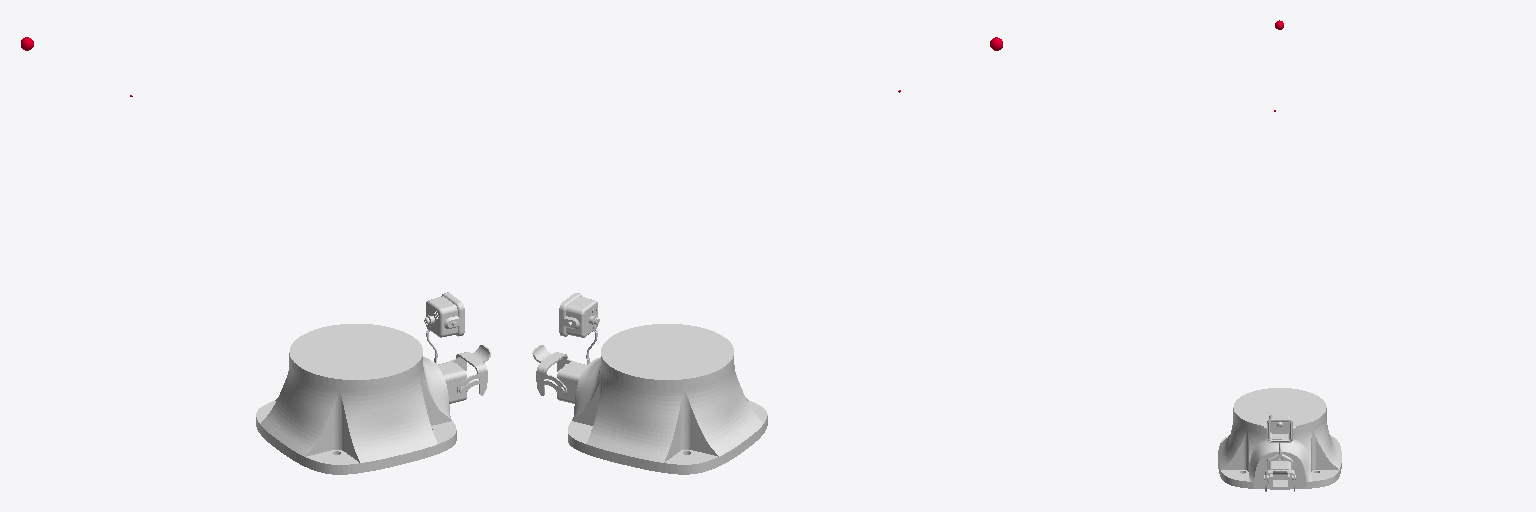
The robot description file, URDF, robot "mg400":
<?xml version="1.0" ?>
<robot name="mg400">
	<link name="world">
		<inertial>
			<origin rpy="0.00000 -0.00000 0.00000" xyz="0.00000 0.00000 0.00000"/>
			<mass value="0.00000"/>
			<inertia ixx="0.00000" ixy="0" ixz="0" iyy="0.00000" iyz="0" izz="0.00000"/>
		</inertial>
	</link>
	<link name="base_link">
		<inertial>
			<origin rpy="0.00000 -0.00000 0.00000" xyz="0.00060 -0.00000 0.05609"/>
			<mass value="3.62165"/>
			<inertia ixx="0.01587" ixy="0" ixz="0" iyy="0.01587" iyz="0" izz="0.02319"/>
		</inertial>
		<visual>
			<origin rpy="0.00000 -0.00000 0.00000" xyz="0.00000 0.00000 0.00000"/>
			<geometry>
				<mesh filename="../robot_arm_assets/mg400/meshes/base_link.STL" scale="1.00000 1.00000 1.00000"/>
			</geometry>
			<material name="mat_0">
				<color rgba="0.90000 0.90000 0.90000 1.00000" />
			</material>
		</visual>
		<collision>
			<origin rpy="0.00000 -0.00000 0.00000" xyz="0.00000 0.00000 0.00000"/>
			<geometry>
				<mesh filename="../robot_arm_assets/mg400/meshes/base_link.STL" scale="1.00000 1.00000 1.00000"/>
			</geometry>
		</collision>
	</link>
	<link name="link1">
		<inertial>
			<origin rpy="0.00000 -0.00000 0.00000" xyz="-0.00462 -0.00007 0.07099"/>
			<mass value="1.77056"/>
			<inertia ixx="0.00748" ixy="0" ixz="0" iyy="0.00775" iyz="0" izz="0.00787"/>
		</inertial>
		<visual>
			<origin rpy="0.00000 -0.00000 0.00000" xyz="0.00000 0.00000 0.00000"/>
			<geometry>
				<mesh filename="../robot_arm_assets/mg400/meshes/link1.STL" scale="1.00000 1.00000 1.00000"/>
			</geometry>
			<material name="mat_1">
				<color rgba="0.30000 0.30000 0.30000 1.00000" />
			</material>
		</visual>
		<collision>
			<origin rpy="0.00000 -0.00000 0.00000" xyz="0.00000 0.00000 0.00000"/>
			<geometry>
				<mesh filename="../robot_arm_assets/mg400/meshes/link1.STL" scale="1.00000 1.00000 1.00000"/>
			</geometry>
		</collision>
	</link>
	<link name="link2_1">
		<inertial>
			<origin rpy="0.00000 -0.00000 0.00000" xyz="-0.00322 0.03529 0.05961"/>
			<mass value="0.08661"/>
			<inertia ixx="0.00038" ixy="0" ixz="0" iyy="0.00035" iyz="0" izz="0.00006"/>
		</inertial>
		<visual>
			<origin rpy="0.00000 -0.00000 0.00000" xyz="0.00000 0.00000 0.00000"/>
			<geometry>
				<mesh filename="../robot_arm_assets/mg400/meshes/link2_1.STL" scale="1.00000 1.00000 1.00000"/>
			</geometry>
			<material name="mat_2">
				<color rgba="0.30000 0.30000 0.30000 1.00000" />
			</material>
		</visual>
		<collision>
			<origin rpy="0.00000 -0.00000 0.00000" xyz="0.00000 0.00000 0.00000"/>
			<geometry>
				<mesh filename="../robot_arm_assets/mg400/meshes/link2_1.STL" scale="1.00000 1.00000 1.00000"/>
			</geometry>
		</collision>
	</link>
	<link name="link3_1">
		<inertial>
			<origin rpy="0.00000 -0.00000 0.00000" xyz="0.08217 0.00011 -0.00334"/>
			<mass value="0.03752"/>
			<inertia ixx="0.00001" ixy="0" ixz="0" iyy="0.00018" iyz="0" izz="0.00018"/>
		</inertial>
		<visual>
			<origin rpy="0.00000 -0.00000 0.00000" xyz="0.00000 0.00000 0.00000"/>
			<geometry>
				<mesh filename="../robot_arm_assets/mg400/meshes/link3_1.STL" scale="1.00000 1.00000 1.00000"/>
			</geometry>
			<material name="mat_3">
				<color rgba="0.30000 0.30000 0.30000 1.00000" />
			</material>
		</visual>
		<collision>
			<origin rpy="0.00000 -0.00000 0.00000" xyz="0.00000 0.00000 0.00000"/>
			<geometry>
				<mesh filename="../robot_arm_assets/mg400/meshes/link3_1.STL" scale="1.00000 1.00000 1.00000"/>
			</geometry>
		</collision>
	</link>
	<link name="link4_1">
		<inertial>
			<origin rpy="0.00000 -0.00000 0.00000" xyz="0.03879 0.01708 -0.00246"/>
			<mass value="0.06290"/>
			<inertia ixx="0.00006" ixy="0" ixz="0" iyy="0.00010" iyz="0" izz="0.00007"/>
		</inertial>
		<visual>
			<origin rpy="0.00000 -0.00000 0.00000" xyz="0.00000 0.00000 0.00000"/>
			<geometry>
				<mesh filename="../robot_arm_assets/mg400/meshes/link4_1.STL" scale="1.00000 1.00000 1.00000"/>
			</geometry>
			<material name="mat_4">
				<color rgba="0.90000 0.90000 0.90000 1.00000" />
			</material>
		</visual>
		<collision>
			<origin rpy="0.00000 -0.00000 0.00000" xyz="0.00000 0.00000 0.00000"/>
			<geometry>
				<mesh filename="../robot_arm_assets/mg400/meshes/link4_1.STL" scale="1.00000 1.00000 1.00000"/>
			</geometry>
		</collision>
	</link>
	<link name="link5">
		<inertial>
			<origin rpy="0.00000 -0.00000 0.00000" xyz="0.00000 0.00000 -0.03497"/>
			<mass value="0.09653"/>
			<inertia ixx="0.00008" ixy="0" ixz="0" iyy="0.00008" iyz="0" izz="0.00003"/>
		</inertial>
		<visual>
			<origin rpy="0.00000 -0.00000 0.00000" xyz="0.00000 0.00000 0.00000"/>
			<geometry>
				<mesh filename="../robot_arm_assets/mg400/meshes/link5.STL" scale="1.00000 1.00000 1.00000"/>
			</geometry>
			<material name="mat_5">
				<color rgba="0.90000 0.90000 0.90000 1.00000" />
			</material>
		</visual>
		<collision>
			<origin rpy="0.00000 -0.00000 0.00000" xyz="0.00000 0.00000 0.00000"/>
			<geometry>
				<mesh filename="../robot_arm_assets/mg400/meshes/link5.STL" scale="1.00000 1.00000 1.00000"/>
			</geometry>
		</collision>
	</link>
	<link name="ee_link">
		<inertial>
			<origin rpy="-3.14000 -0.00000 1.57000" xyz="0.00000 0.00000 0.00000"/>
			<mass value="0.00000"/>
			<inertia ixx="0.00000" ixy="0" ixz="0" iyy="0.00000" iyz="0" izz="0.00000"/>
		</inertial>
		<visual>
			<origin rpy="0.00000 -0.00000 0.00000" xyz="0.00000 0.00000 0.00000"/>
			<geometry>
				<sphere radius="0.00500"/>
			</geometry>
			<material name="mat_6">
				<color rgba="0.90000 0.00000 0.20000 1.00000" />
			</material>
		</visual>
		<collision>
			<origin rpy="0.00000 -0.00000 0.00000" xyz="0.00000 0.00000 0.00000"/>
			<geometry>
				<sphere radius="0.00100"/>
			</geometry>
		</collision>
	</link>
	<link name="link2_2">
		<inertial>
			<origin rpy="0.00000 -0.00000 0.00000" xyz="-0.02011 0.03050 0.07363"/>
			<mass value="0.06625"/>
			<inertia ixx="0.00025" ixy="0" ixz="0" iyy="0.00024" iyz="0" izz="0.00004"/>
		</inertial>
		<visual>
			<origin rpy="0.00000 -0.00000 0.00000" xyz="0.00000 0.00000 0.00000"/>
			<geometry>
				<mesh filename="../robot_arm_assets/mg400/meshes/link2_2.STL" scale="1.00000 1.00000 1.00000"/>
			</geometry>
			<material name="mat_7">
				<color rgba="0.90000 0.90000 0.90000 1.00000" />
			</material>
		</visual>
		<collision>
			<origin rpy="0.00000 -0.00000 0.00000" xyz="0.00000 0.00000 0.00000"/>
			<geometry>
				<mesh filename="../robot_arm_assets/mg400/meshes/link2_2.STL" scale="1.00000 1.00000 1.00000"/>
			</geometry>
		</collision>
	</link>
	<link name="link3_2">
		<inertial>
			<origin rpy="0.00000 -0.00000 0.00000" xyz="0.03386 0.02402 0.00452"/>
			<mass value="0.03667"/>
			<inertia ixx="0.00002" ixy="0" ixz="0" iyy="0.00004" iyz="0" izz="0.00004"/>
		</inertial>
		<visual>
			<origin rpy="0.00000 -0.00000 0.00000" xyz="0.00000 0.00000 0.00000"/>
			<geometry>
				<mesh filename="../robot_arm_assets/mg400/meshes/link3_2.STL" scale="1.00000 1.00000 1.00000"/>
			</geometry>
			<material name="mat_8">
				<color rgba="0.30000 0.30000 0.30000 1.00000" />
			</material>
		</visual>
		<collision>
			<origin rpy="0.00000 -0.00000 0.00000" xyz="0.00000 0.00000 0.00000"/>
			<geometry>
				<mesh filename="../robot_arm_assets/mg400/meshes/link3_2.STL" scale="1.00000 1.00000 1.00000"/>
			</geometry>
		</collision>
	</link>
	<link name="link4_2">
		<inertial>
			<origin rpy="0.00000 -0.00000 0.00000" xyz="0.08764 0.02350 0.00831"/>
			<mass value="0.04536"/>
			<inertia ixx="0.00002" ixy="0" ixz="0" iyy="0.00016" iyz="0" izz="0.00016"/>
		</inertial>
		<visual>
			<origin rpy="0.00000 -0.00000 0.00000" xyz="0.00000 0.00000 0.00000"/>
			<geometry>
				<mesh filename="../robot_arm_assets/mg400/meshes/link4_2.STL" scale="1.00000 1.00000 1.00000"/>
			</geometry>
			<material name="mat_9">
				<color rgba="0.90000 0.90000 0.90000 1.00000" />
			</material>
		</visual>
		<collision>
			<origin rpy="0.00000 -0.00000 0.00000" xyz="0.00000 0.00000 0.00000"/>
			<geometry>
				<mesh filename="../robot_arm_assets/mg400/meshes/link4_2.STL" scale="1.00000 1.00000 1.00000"/>
			</geometry>
		</collision>
	</link>
	<link name="tactip_adapter_link">
		<inertial>
			<origin rpy="0.00000 -0.00000 0.00000" xyz="0.00000 0.00000 0.00000"/>
			<mass value="0.10000"/>
			<inertia ixx="0.00009" ixy="0" ixz="0" iyy="0.00014" iyz="0" izz="0.00015"/>
		</inertial>
		<visual>
			<origin rpy="0.00000 -0.00000 0.00000" xyz="0.00000 0.00000 0.00000"/>
			<geometry>
				<mesh filename="../sensor_assets/right_angle_tactip/adapter/right_angle_adapter.obj" scale="1.00000 1.00000 1.00000"/>
			</geometry>
			<material name="mat_10">
				<color rgba="0.80000 0.80000 0.80000 1.00000" />
			</material>
		</visual>
		<collision>
			<origin rpy="0.00000 -0.00000 0.00000" xyz="0.00000 0.00000 0.00000"/>
			<geometry>
				<mesh filename="../sensor_assets/right_angle_tactip/adapter/right_angle_adapter.obj" scale="1.00000 1.00000 1.00000"/>
			</geometry>
		</collision>
	</link>
	<link name="tactip_body_link">
		<inertial>
			<origin rpy="0.00000 -0.00000 0.00000" xyz="0.00000 0.00000 0.00000"/>
			<mass value="0.25000"/>
			<inertia ixx="0.00022" ixy="0" ixz="0" iyy="0.00021" iyz="0" izz="0.00021"/>
		</inertial>
		<visual>
			<origin rpy="0.00000 -0.00000 0.00000" xyz="0.00000 0.00000 0.00000"/>
			<geometry>
				<mesh filename="../sensor_assets/right_angle_tactip/../standard_tactip/body/tactip_body.obj" scale="1.00000 1.00000 1.00000"/>
			</geometry>
			<material name="mat_11">
				<color rgba="0.80000 0.80000 0.80000 1.00000" />
			</material>
		</visual>
		<collision>
			<origin rpy="0.00000 -0.00000 0.00000" xyz="0.00000 0.00000 0.00000"/>
			<geometry>
				<mesh filename="../sensor_assets/right_angle_tactip/../standard_tactip/body/tactip_body.obj" scale="1.00000 1.00000 1.00000"/>
			</geometry>
		</collision>
	</link>
	<link name="tactip_tip_link">
		<inertial>
			<origin rpy="0.00000 -0.00000 0.00000" xyz="0.00000 0.00000 0.00000"/>
			<mass value="0.10000"/>
			<inertia ixx="0.00002" ixy="0" ixz="0" iyy="0.00003" iyz="0" izz="0.00002"/>
		</inertial>
		<visual>
			<origin rpy="0.00000 -0.00000 0.00000" xyz="0.00000 0.00000 0.00000"/>
			<geometry>
				<mesh filename="../sensor_assets/right_angle_tactip/../standard_tactip/tip/skin.obj" scale="1.00000 1.00000 1.00000"/>
			</geometry>
			<material name="mat_12">
				<color rgba="0.00000 0.00000 0.00000 1.00000" />
			</material>
		</visual>
		<collision>
			<origin rpy="0.00000 -0.00000 0.00000" xyz="0.00000 0.00000 0.00000"/>
			<geometry>
				<mesh filename="../sensor_assets/right_angle_tactip/../standard_tactip/tip/core.obj" scale="1.00000 1.00000 1.00000"/>
			</geometry>
		</collision>
	</link>
	<link name="tcp_link">
		<inertial>
			<origin rpy="0.00000 -1.57080 0.00000" xyz="0.00000 0.00000 0.00000"/>
			<mass value="0.00000"/>
			<inertia ixx="0.00000" ixy="0" ixz="0" iyy="0.00000" iyz="0" izz="0.00000"/>
		</inertial>
		<visual>
			<origin rpy="0.00000 -0.00000 0.00000" xyz="0.00000 0.00000 0.00000"/>
			<geometry>
				<sphere radius="0.00100"/>
			</geometry>
			<material name="mat_13">
				<color rgba="0.90000 0.00000 0.20000 0.50000" />
			</material>
		</visual>
	</link>
	<joint name="world_joint" type="fixed">
		<parent link="world"/>
		<child link="base_link"/>
		<dynamics damping="1.0" friction="0.0001"/>
		<origin rpy="0.00000 -0.00000 -3.14000" xyz="0.00000 0.00000 0.00000"/>
		<axis xyz="0.00000 0.00000 0.00000"/>
	</joint>
	<joint name="j1" type="revolute">
		<parent link="base_link"/>
		<child link="link1"/>
		<limit effort="0.00000" lower="-3.14000" upper="3.14000" velocity="0.00000"/>
		<dynamics damping="1.0" friction="0.0001"/>
		<origin rpy="0.00000 -0.00000 0.00000" xyz="-0.00500 0.00000 0.10900"/>
		<axis xyz="0.00000 0.00000 1.00000"/>
	</joint>
	<joint name="j2_1" type="revolute">
		<parent link="link1"/>
		<child link="link2_1"/>
		<limit effort="0.00000" lower="-3.14000" upper="3.14000" velocity="0.00000"/>
		<dynamics damping="1.0" friction="0.0001"/>
		<origin rpy="0.00000 -0.00000 0.00000" xyz="0.04350 -0.03577 0.11900"/>
		<axis xyz="0.00000 1.00000 0.00000"/>
	</joint>
	<joint name="j3_1" type="revolute">
		<parent link="link2_1"/>
		<child link="link3_1"/>
		<limit effort="0.00000" lower="-3.14000" upper="3.14000" velocity="0.00000"/>
		<dynamics damping="1.0" friction="0.0001"/>
		<origin rpy="0.00000 -0.00000 0.00000" xyz="-0.00105 0.03577 0.17500"/>
		<axis xyz="0.00000 1.00000 0.00000"/>
	</joint>
	<joint name="j4_1" type="revolute">
		<parent link="link3_1"/>
		<child link="link4_1"/>
		<limit effort="0.00000" lower="-3.14000" upper="3.14000" velocity="0.00000"/>
		<dynamics damping="1.0" friction="0.0001"/>
		<origin rpy="0.00000 -0.00000 0.00000" xyz="0.17497 -0.01700 0.00325"/>
		<axis xyz="0.00000 1.00000 0.00000"/>
	</joint>
	<joint name="j5" type="revolute">
		<parent link="link4_1"/>
		<child link="link5"/>
		<limit effort="0.00000" lower="-3.14000" upper="3.14000" velocity="0.00000"/>
		<dynamics damping="1.0" friction="0.0001"/>
		<origin rpy="0.00000 -0.00000 0.00000" xyz="0.06600 0.01700 0.03100"/>
		<axis xyz="-0.00001 0.00000 1.00000"/>
	</joint>
	<joint name="ee_joint" type="fixed">
		<parent link="link5"/>
		<child link="ee_link"/>
		<dynamics damping="1.0" friction="0.0001"/>
		<origin rpy="0.00000 -0.00000 0.00000" xyz="0.00000 0.00000 -0.06500"/>
		<axis xyz="0.00000 0.00000 0.00000"/>
	</joint>
	<joint name="j2_2" type="revolute">
		<parent link="link1"/>
		<child link="link2_2"/>
		<limit effort="0.00000" lower="-3.14000" upper="3.14000" velocity="0.00000"/>
		<dynamics damping="1.0" friction="0.0001"/>
		<origin rpy="0.00000 -0.00000 0.00000" xyz="0.00453 -0.03050 0.14150"/>
		<axis xyz="0.00000 1.00000 0.00000"/>
	</joint>
	<joint name="j3_2" type="revolute">
		<parent link="link2_2"/>
		<child link="link3_2"/>
		<limit effort="0.00000" lower="-3.14000" upper="3.14000" velocity="0.00000"/>
		<dynamics damping="1.0" friction="0.0001"/>
		<origin rpy="0.00000 -0.00000 0.00000" xyz="-0.00105 0.00650 0.17500"/>
		<axis xyz="0.00000 1.00000 0.00000"/>
	</joint>
	<joint name="j4_2" type="revolute">
		<parent link="link3_2"/>
		<child link="link4_2"/>
		<limit effort="0.00000" lower="-3.14000" upper="3.14000" velocity="0.00000"/>
		<dynamics damping="1.0" friction="0.0001"/>
		<origin rpy="0.00000 -0.00000 0.00000" xyz="0.06790 0.00050 0.01197"/>
		<axis xyz="0.00000 1.00000 0.00000"/>
	</joint>
	<joint name="joint_dummy1" type="fixed">
		<parent link="ee_link"/>
		<child link="tactip_adapter_link"/>
		<dynamics damping="1.0" friction="0.0001"/>
		<origin rpy="-1.57080 -1.57080 1.57080" xyz="0.00000 0.00500 -0.06000"/>
		<axis xyz="0.00000 0.00000 1.00000"/>
	</joint>
	<joint name="tactip_body_to_adapter" type="fixed">
		<parent link="tactip_adapter_link"/>
		<child link="tactip_body_link"/>
		<dynamics damping="1.0" friction="0.0001"/>
		<origin rpy="0.00000 -0.00000 0.00000" xyz="0.00000 0.00000 0.00000"/>
		<axis xyz="0.00000 0.00000 0.00000"/>
	</joint>
	<joint name="tactip_tip_to_body" type="fixed">
		<parent link="tactip_body_link"/>
		<child link="tactip_tip_link"/>
		<dynamics damping="1.0" friction="0.0001"/>
		<origin rpy="1.57000 -0.00000 0.00000" xyz="0.00000 0.00000 0.06500"/>
		<axis xyz="0.00000 0.00000 0.00000"/>
	</joint>
	<joint name="tcp_joint" type="fixed">
		<parent link="tactip_body_link"/>
		<child link="tcp_link"/>
		<dynamics damping="1.0" friction="0.0001"/>
		<origin rpy="0.00000 -0.00000 0.00000" xyz="0.00000 0.00000 0.08500"/>
		<axis xyz="0.00000 0.00000 0.00000"/>
	</joint>
</robot>

--- Facts derived from the render (not from the file) ---
Views: 3 orthographic renders of the robot side by side, from view 1: azimuth 30°, elevation 25°; view 2: azimuth 150°, elevation 25°; view 3: azimuth 270°, elevation 25°.
Model mg400 with 15 links and 14 joints (8 revolute, 6 fixed), rooted at world, posed every joint at zero.
Links seen in each view (by area): view 1: base_link; view 2: base_link; view 3: base_link.
Boxes of the visible links, x1,y1,x2,y2 form: base_link: [256, 292, 491, 474]; base_link: [532, 293, 767, 474]; base_link: [1218, 388, 1341, 491].
Bounding box of the posed robot: 0.3937 × 0.13 × 0.3837 m (x, y, z).
1 mesh visuals loaded from 12 distinct referenced files (1 binary STL); not drawn: 11 (reference not matched to a file when rendering).